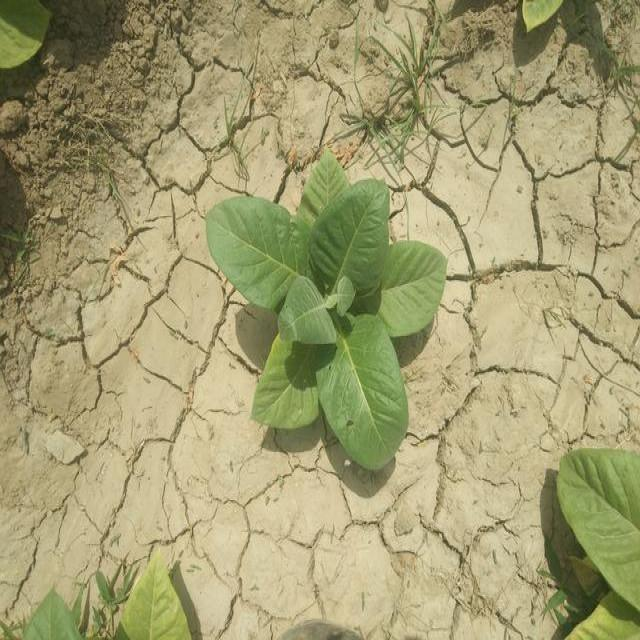crop: (212, 159, 440, 463), (557, 442, 640, 640), (32, 558, 196, 640), (4, 0, 49, 82)
